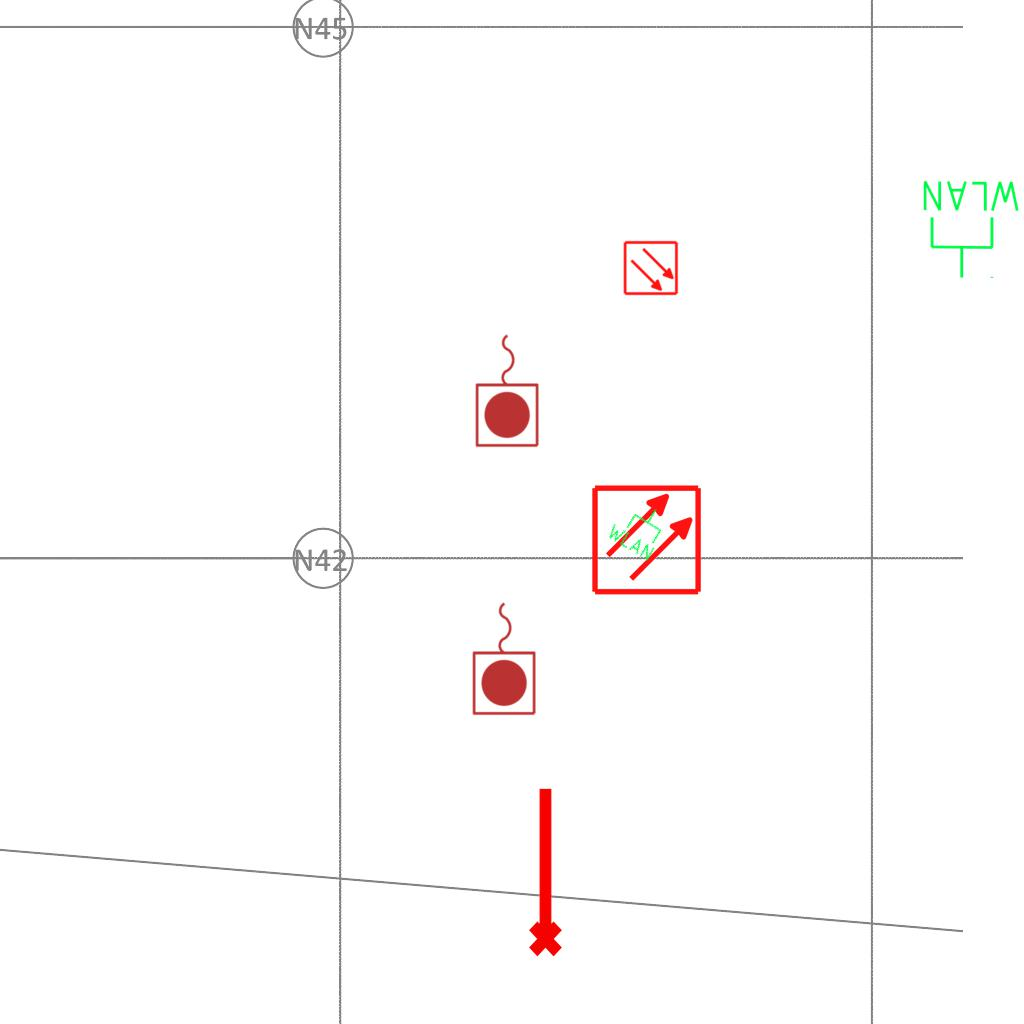ASR_Ansaugoeffnung: (520, 783, 566, 959)
RMO_Rauchmelder_optischer: (590, 483, 703, 596), (623, 240, 679, 296)
WLAN: (919, 177, 1024, 281), (603, 492, 675, 564)
Zugtaster: (472, 329, 544, 451), (469, 597, 541, 719)
